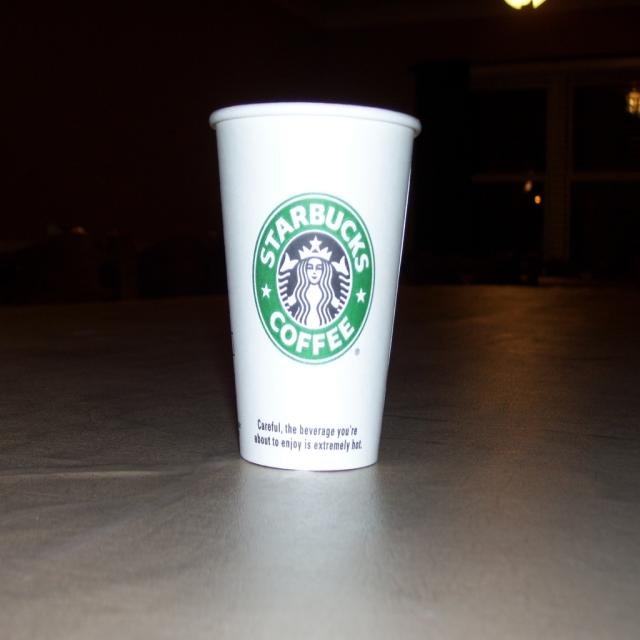starbucks: (253, 193, 376, 364)
